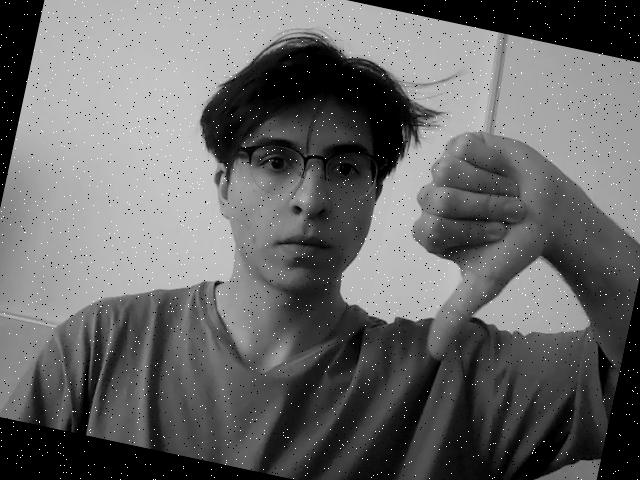bad: (361, 126, 597, 379)
